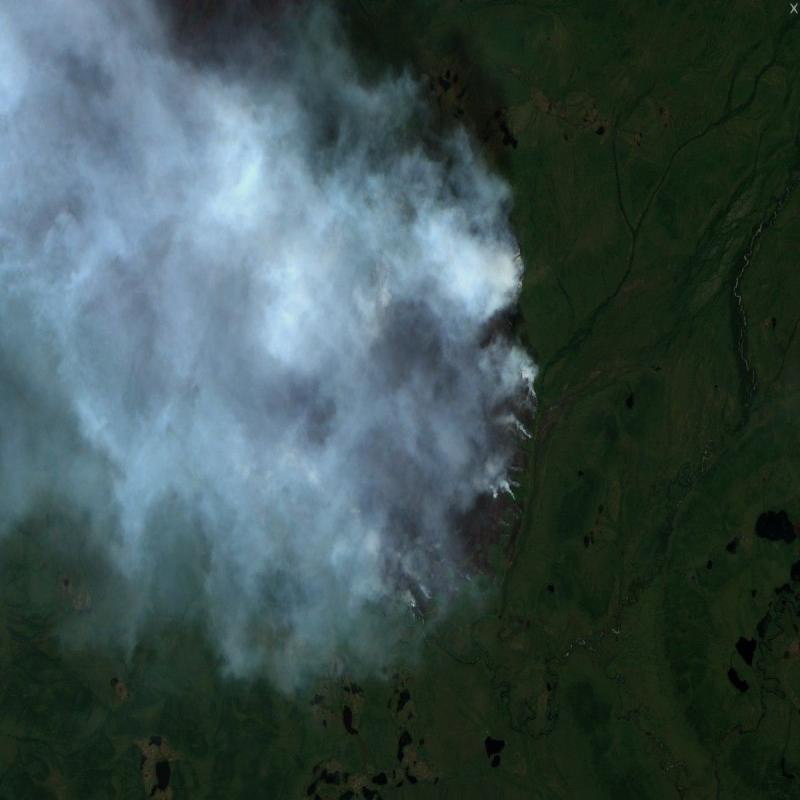fire: (250, 342, 547, 619), (316, 190, 532, 312)
